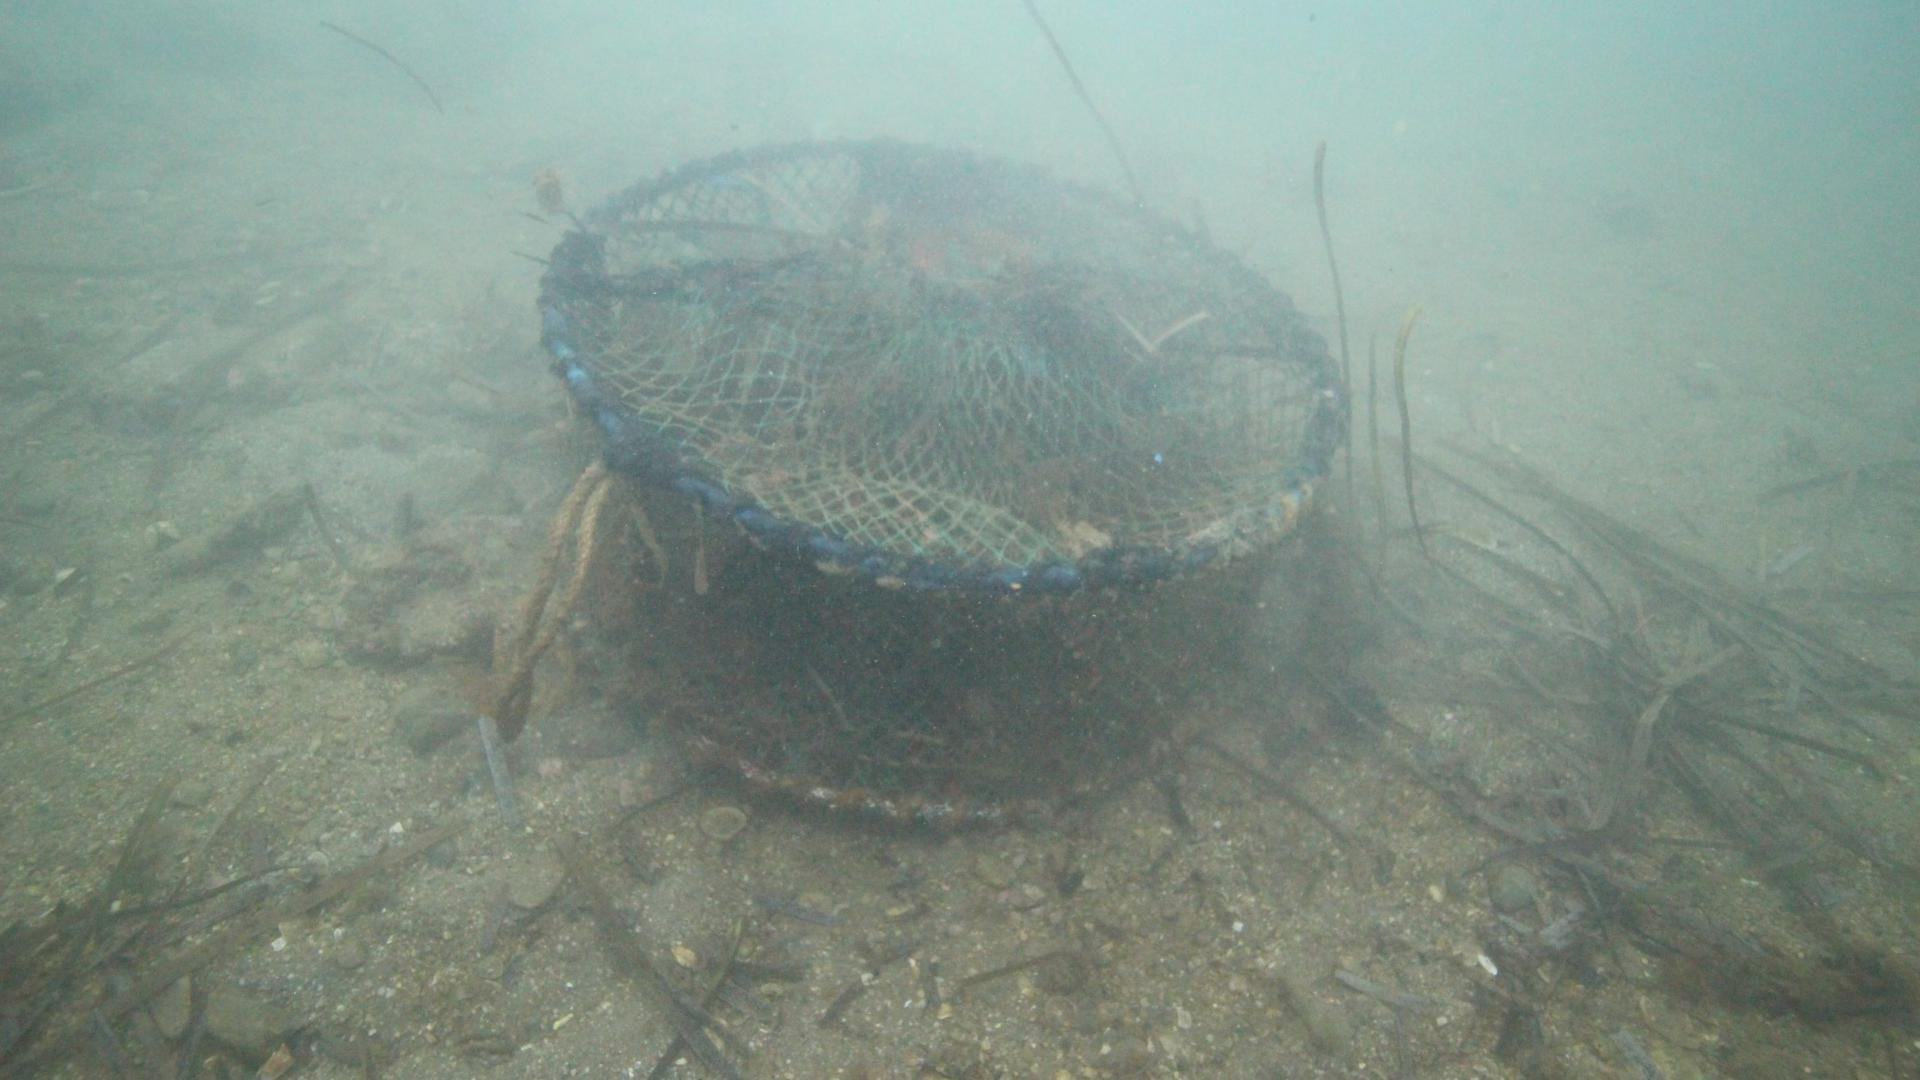circular fish trap: (534, 133, 1348, 822)
rope: (487, 456, 609, 738)
